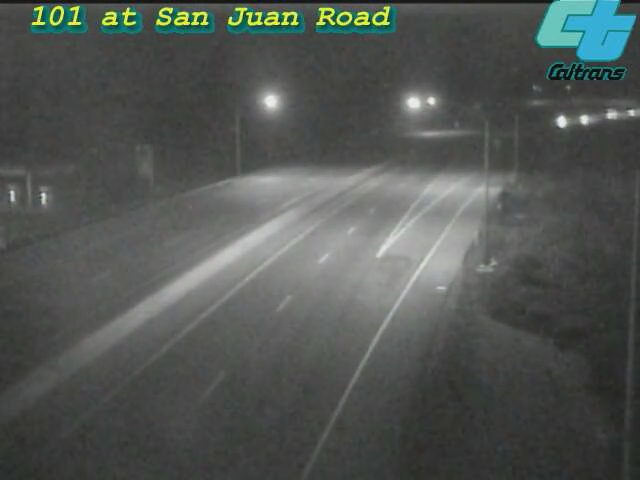vehicle: (590, 90, 640, 140), (559, 96, 609, 146), (538, 97, 588, 147), (608, 87, 640, 137)
